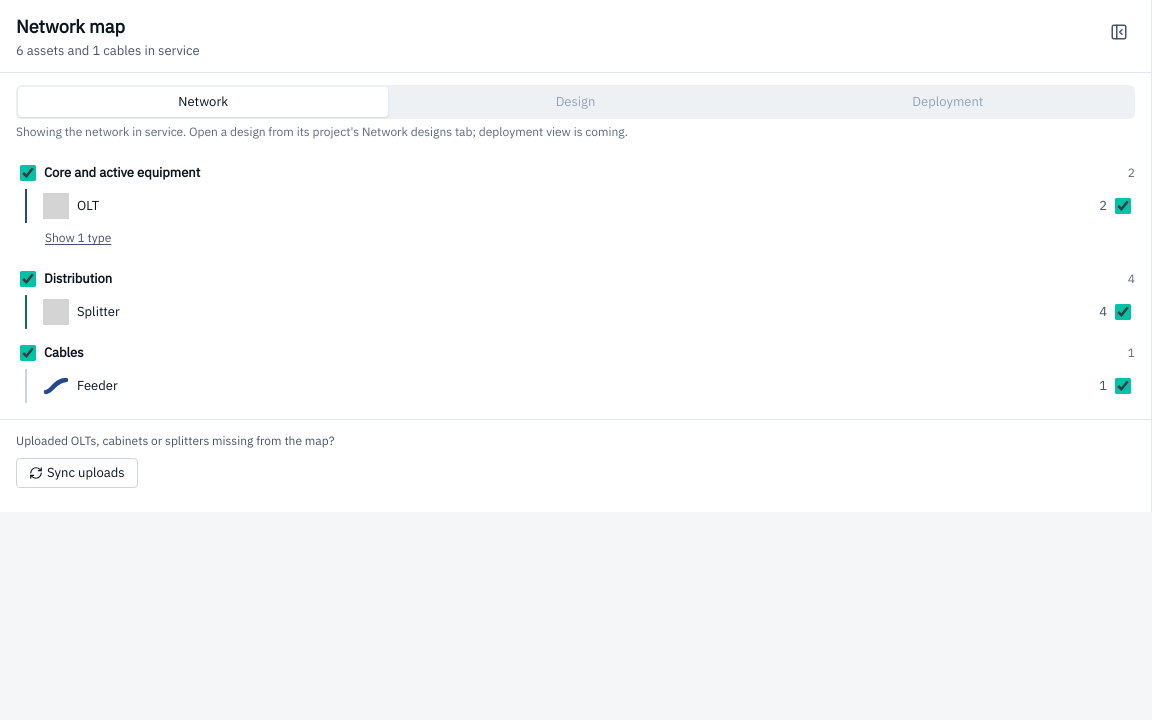
it: LayerPanel › folds types with nothing in service behind a toggle
Expected: the text "POP" is not shown
Click the button "Show 1 type" at (78, 238), box [37,225,119,251]
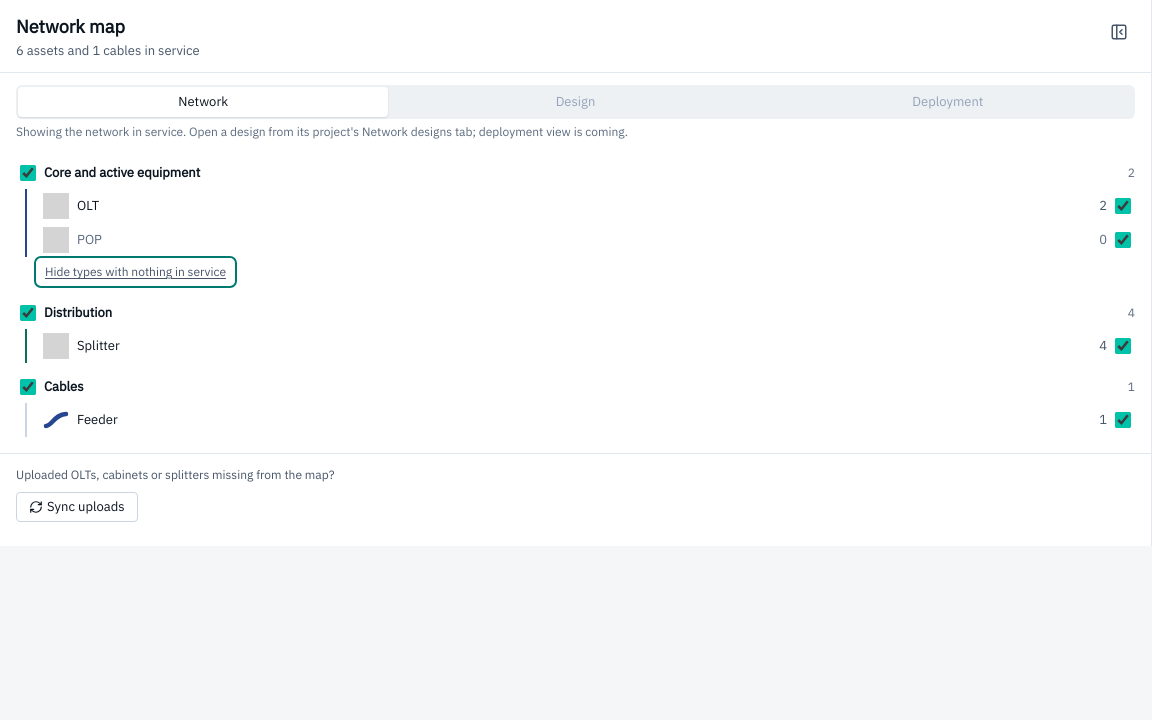
Expected: the text "POP" is shown, [77,231,102,248]
Expected: the button "Hide types with nothing in service" is expanded, [37,259,234,285]
